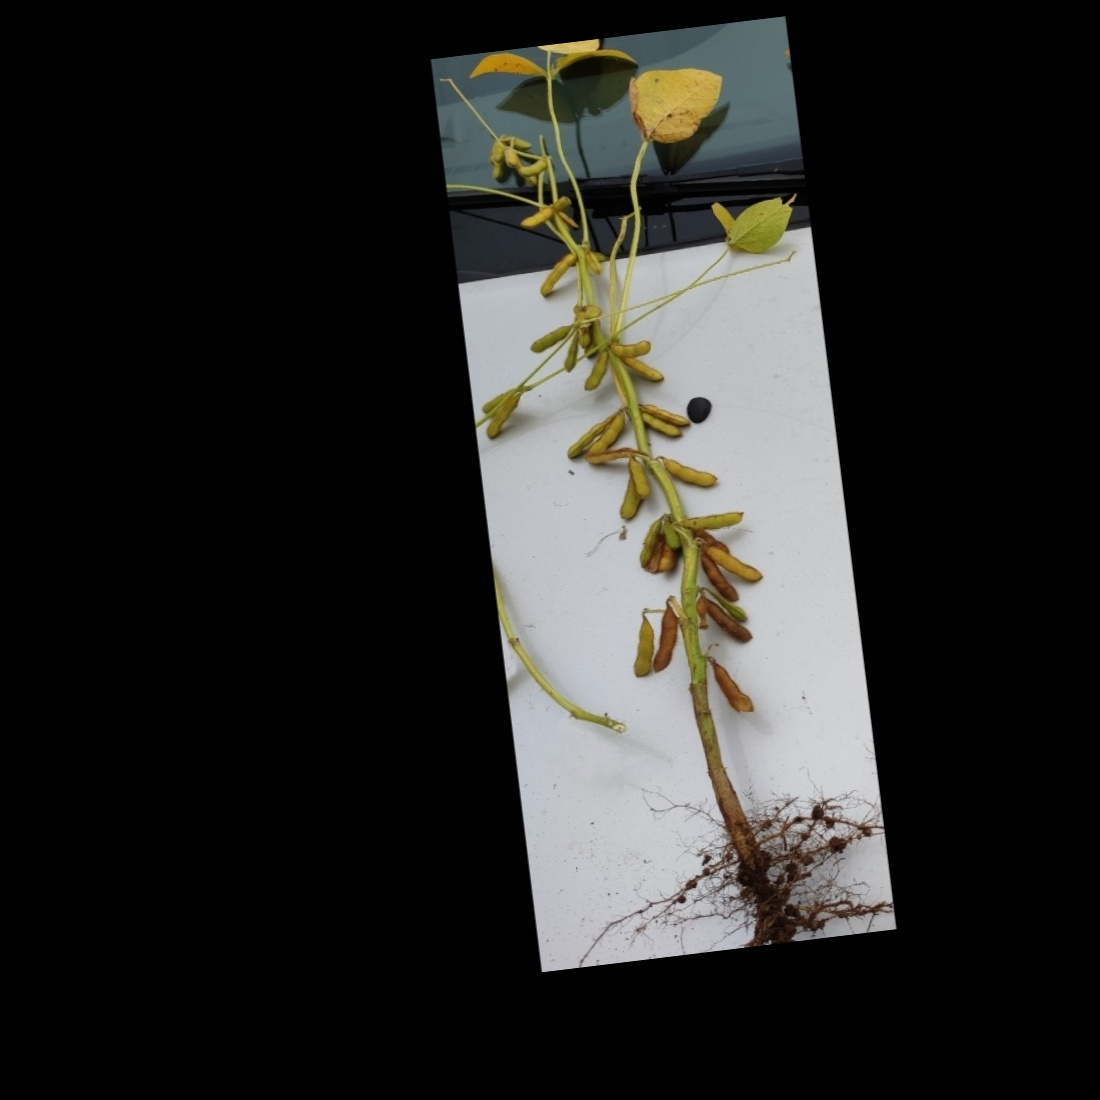pod: (639, 596, 689, 678), (702, 649, 758, 722), (691, 586, 754, 650), (555, 410, 626, 461), (621, 604, 662, 683), (706, 536, 764, 588), (482, 389, 534, 442), (697, 549, 742, 609), (581, 407, 630, 460), (665, 450, 721, 495), (675, 504, 752, 535), (535, 248, 582, 297), (634, 395, 696, 432), (633, 406, 685, 445), (573, 346, 613, 394), (624, 346, 667, 390), (621, 447, 655, 502), (524, 322, 575, 356), (607, 334, 657, 362), (514, 207, 558, 232), (514, 158, 549, 178)
soy: (443, 37, 875, 934)
